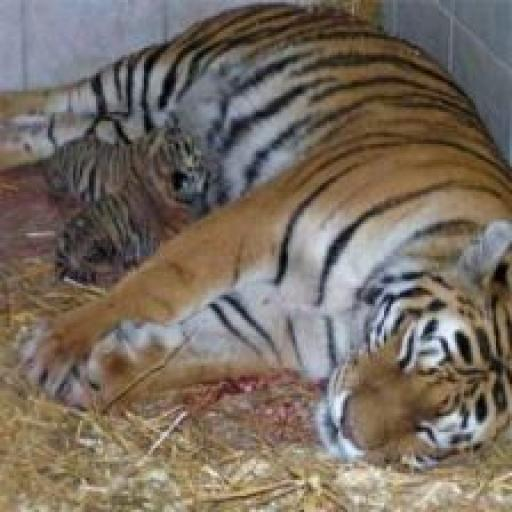Tiger: (0, 16, 512, 491)
